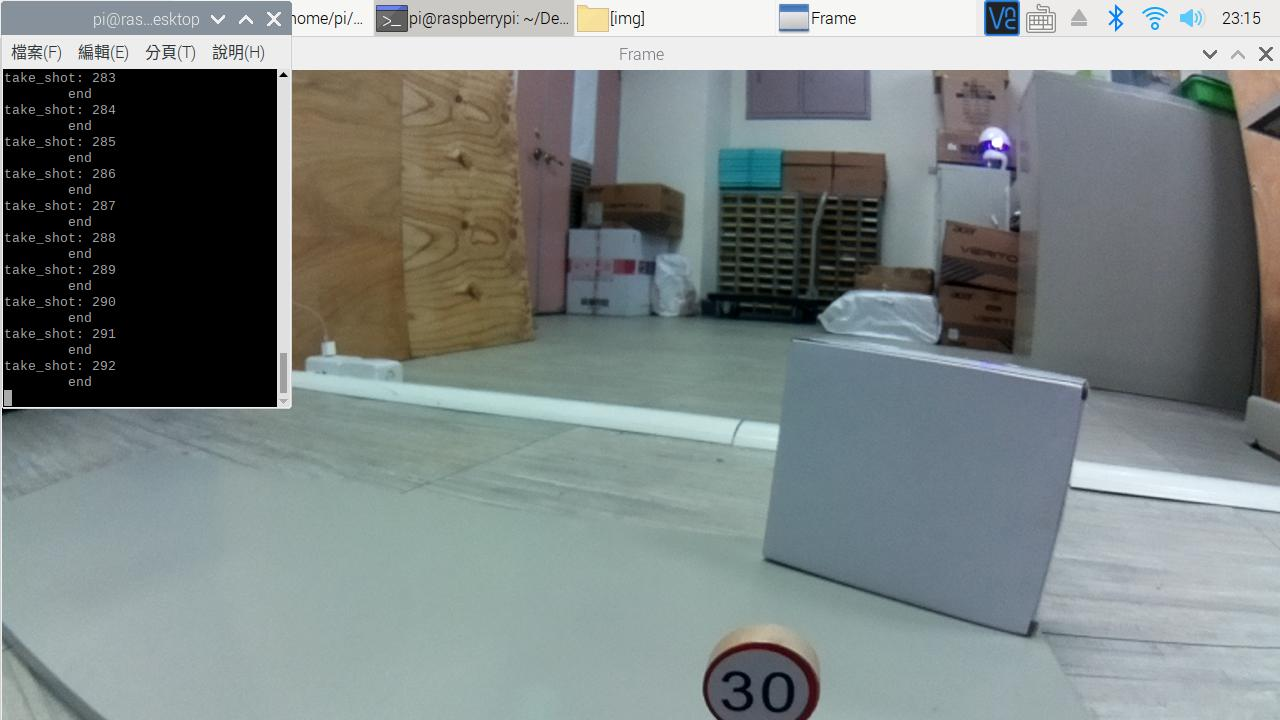Speed30: (644, 600, 870, 720)
